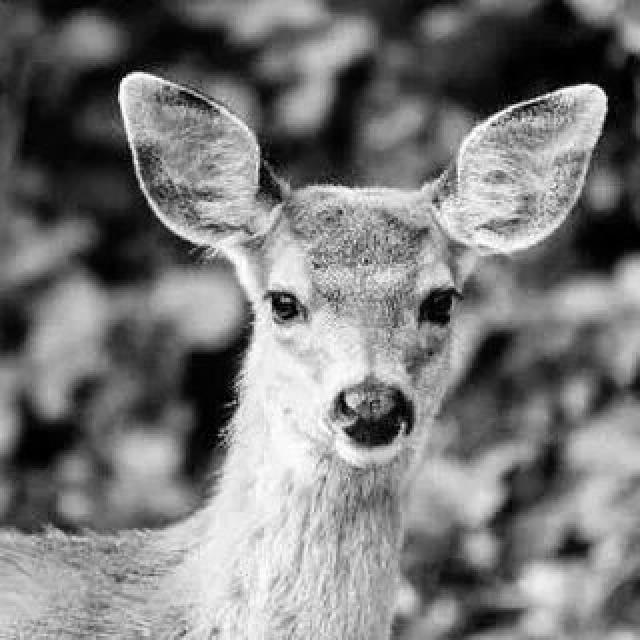Deer: (87, 12, 588, 616)
